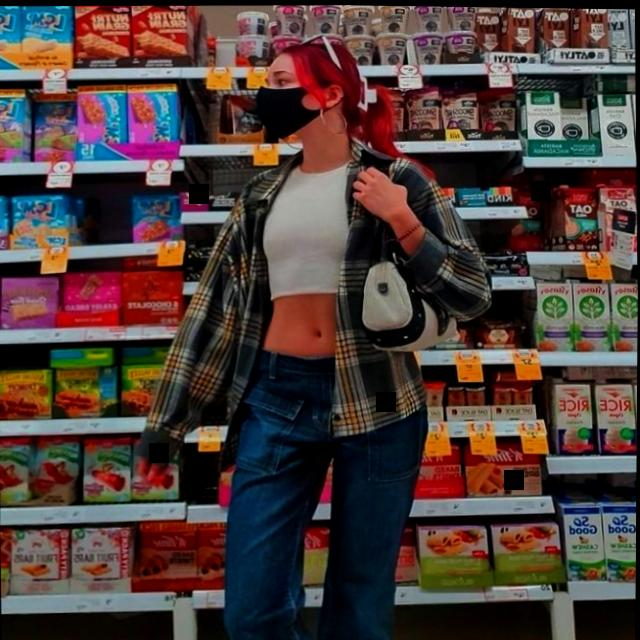Mask: (253, 57, 314, 139)
